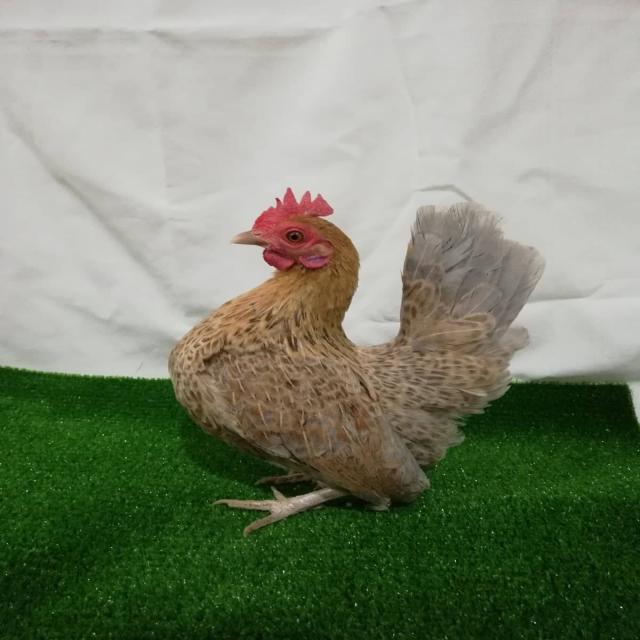Healthy: (147, 170, 555, 578)
